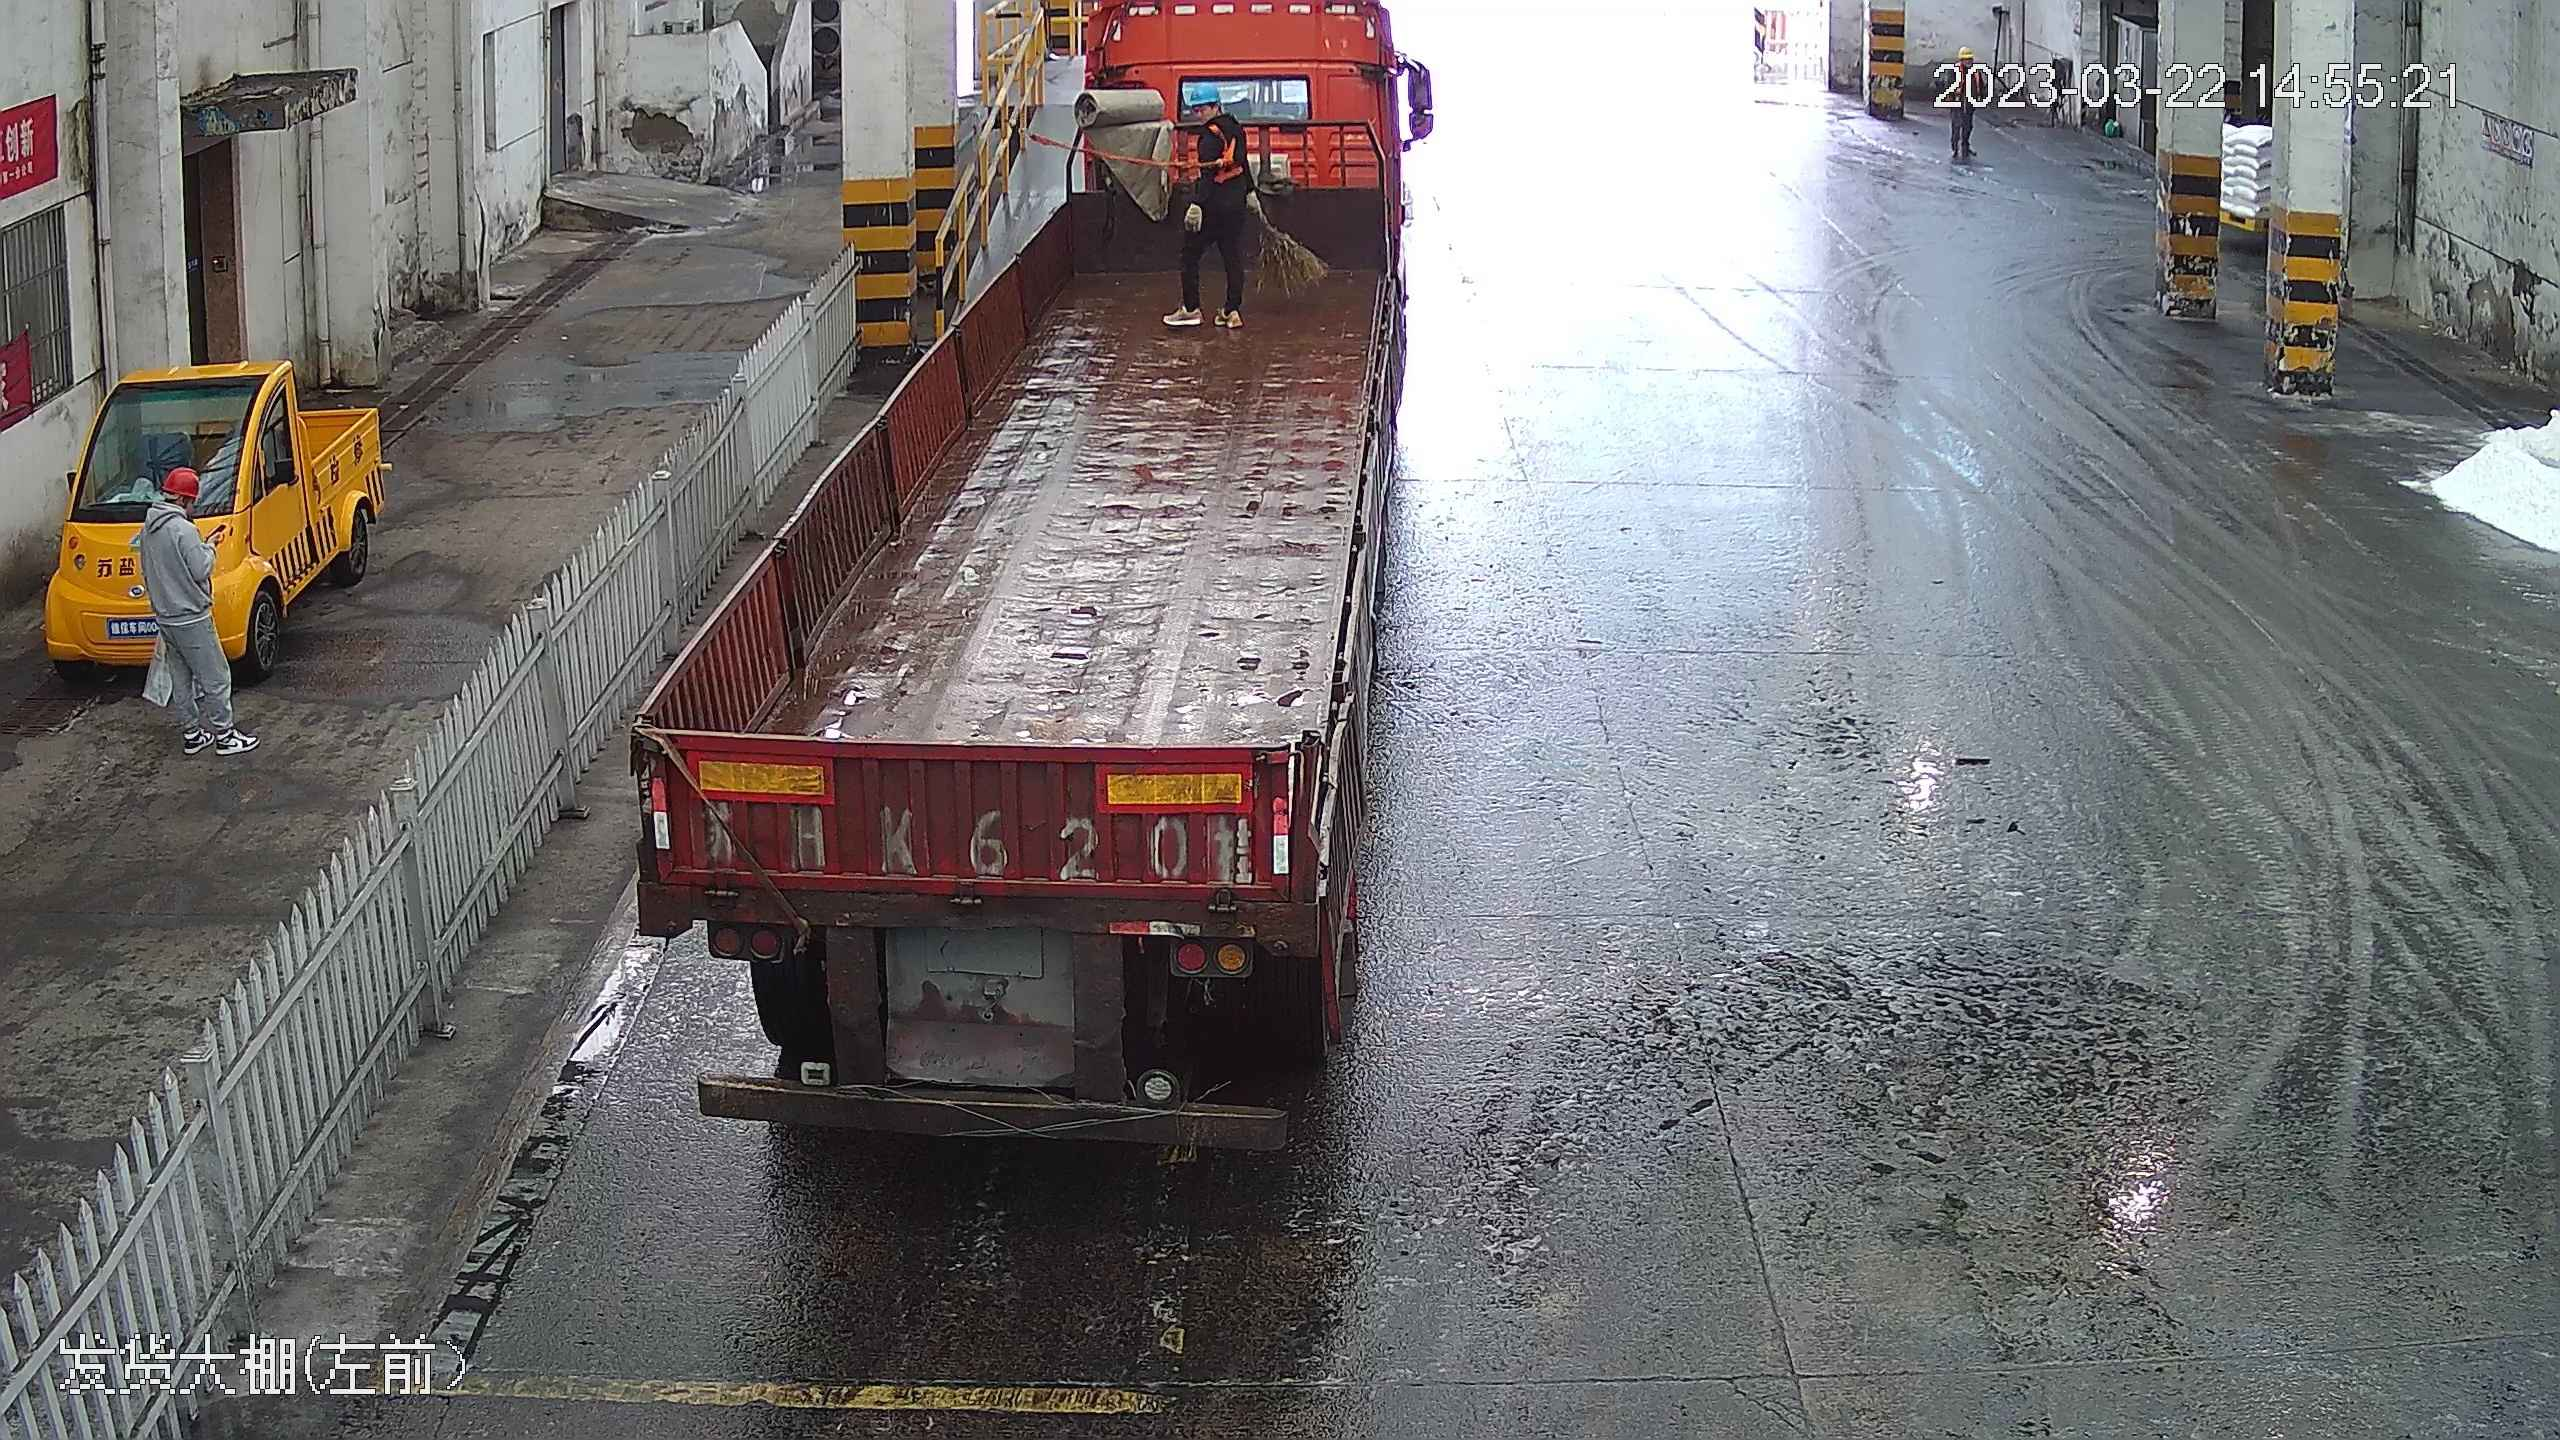belt: (1190, 119, 1249, 176)
head: (138, 463, 218, 556), (1179, 92, 1247, 146)
helmet: (159, 463, 203, 499)
people: (137, 460, 229, 748), (1164, 94, 1261, 327)
truck: (592, 1, 1450, 1127)
